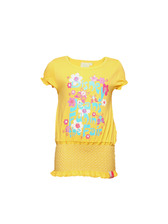clothoes: (39, 55, 128, 182)
